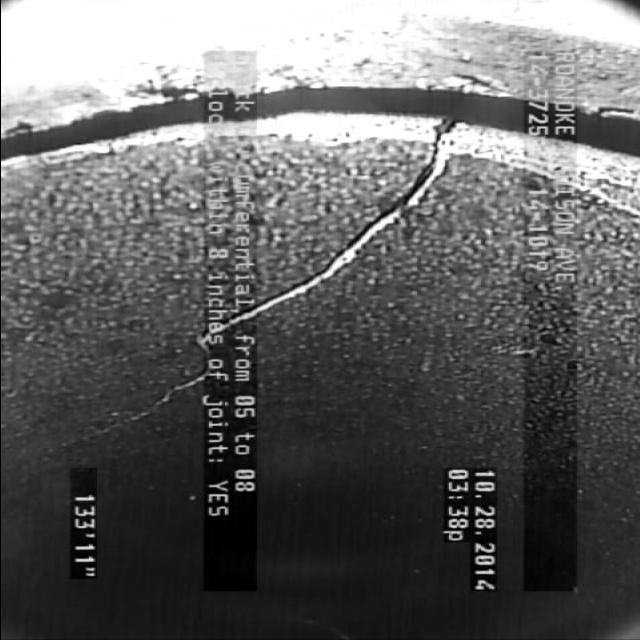Crack: (268, 91, 486, 340)
